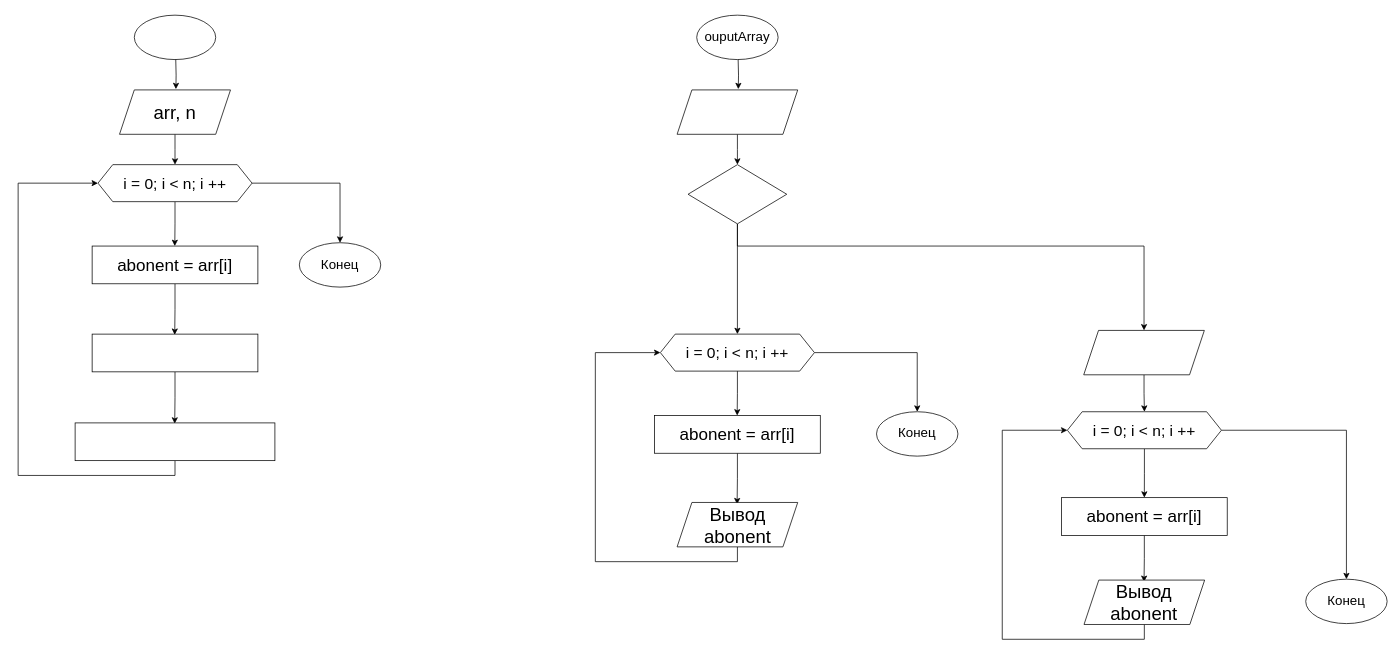
This 1400x659 diagram has some shape labels left out. The shapes that lost their labels are listed below. From the top down, each one's centre as x and y in pixels, then its label:
pixel 175 37: free AbonentArr
pixel 737 111: arr, n, mode
pixel 737 194: mode
pixel 174 352: free(abonent.name)
pixel 1143 352: Вывод n
pixel 174 441: free(abonent.phoneNumber)
